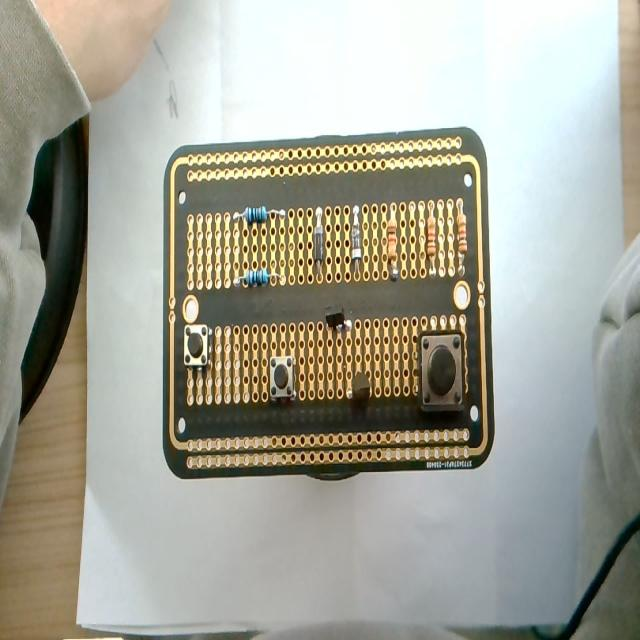diode: (312, 207, 333, 290), (346, 207, 368, 280)
resistor: (452, 193, 472, 276), (380, 205, 400, 282), (422, 204, 441, 282), (236, 201, 280, 228), (239, 263, 275, 289)
switch: (418, 331, 463, 411), (182, 325, 214, 370), (268, 353, 296, 404)
transistor: (343, 367, 381, 409), (322, 295, 354, 341)
